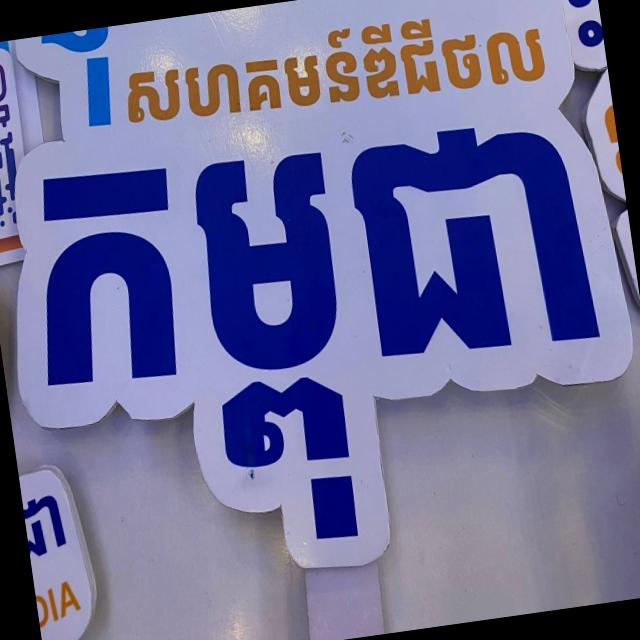Yolov11kh: (28, 109, 621, 581), (116, 4, 555, 150)
